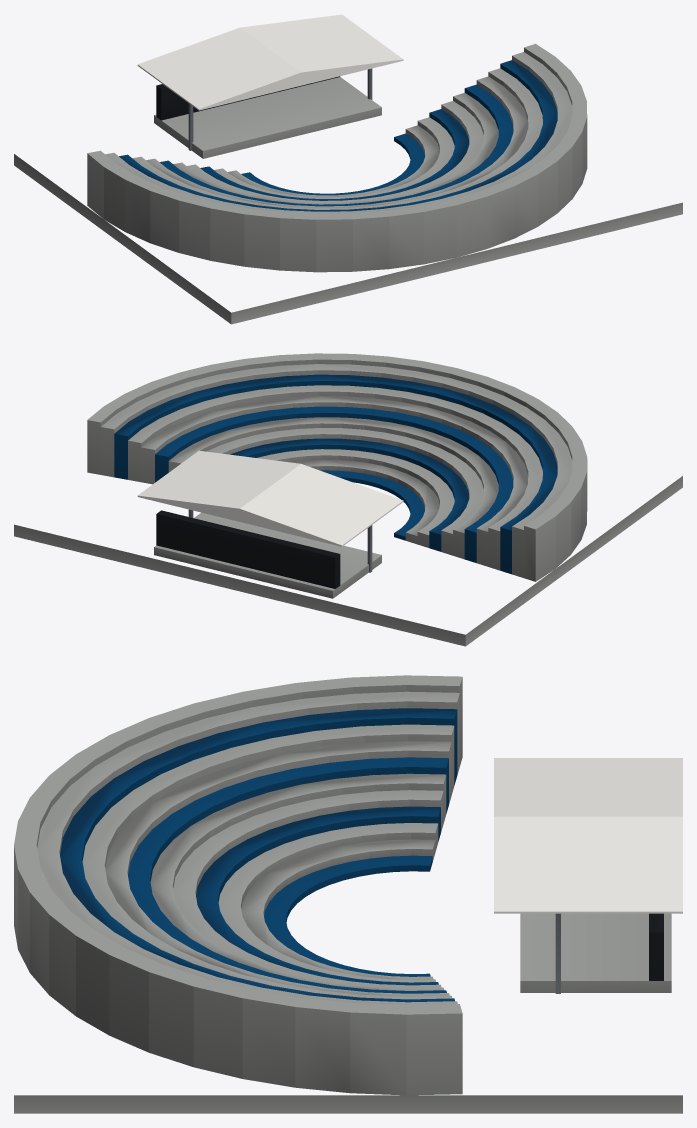
The model's file is amphitheatre.glb.
3 renders of one model, top to bottom at view 1: azimuth 30°, elevation 25°; view 2: azimuth 150°, elevation 25°; view 3: azimuth 270°, elevation 25°, orthographic. The views are drawn at different scales.
Visible parts, largest first — view 1: amphitheatre; view 2: amphitheatre; view 3: amphitheatre.
Boxes of the visible parts, left/top/right/bottom form: amphitheatre: left=14, top=14, right=682, bottom=324; amphitheatre: left=14, top=353, right=682, bottom=646; amphitheatre: left=14, top=675, right=682, bottom=1113.
Size of the model in its own units: 120 by 21 by 100.
